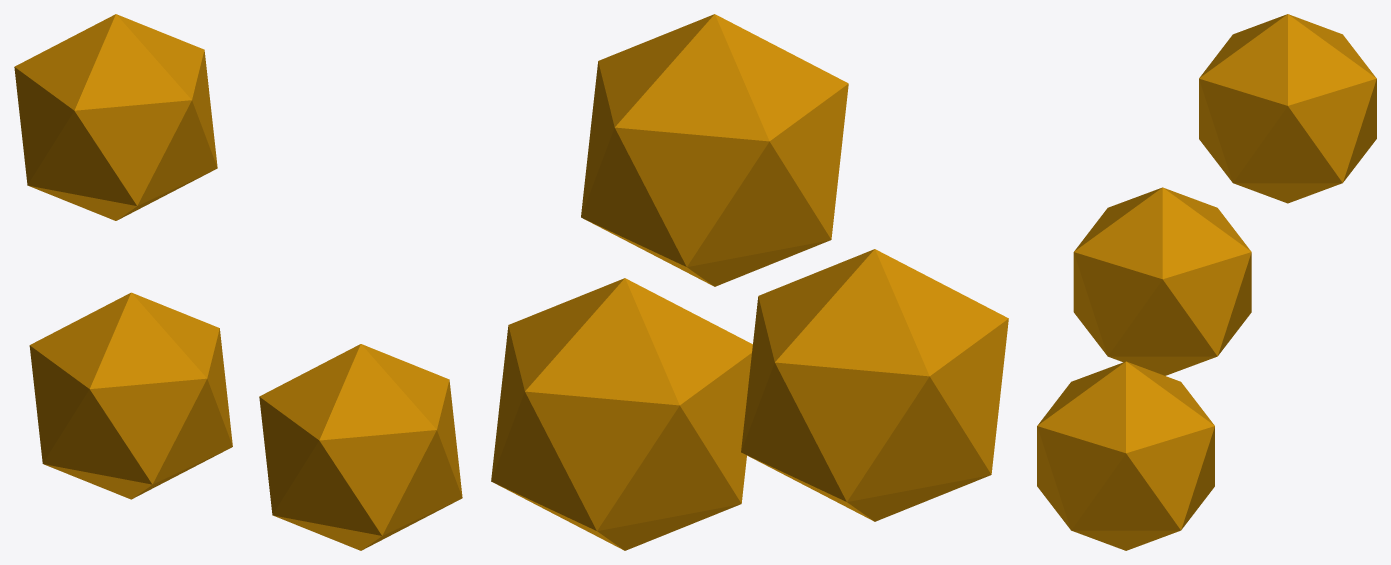
Rendered from gold.obj.
3 renders of one model, left to right at view 1: azimuth 30°, elevation 25°; view 2: azimuth 150°, elevation 25°; view 3: azimuth 270°, elevation 25°, orthographic. The views are drawn at different scales.
Visible parts, largest first — view 1: Icosphere; view 2: Icosphere; view 3: Icosphere.
Boxes of the visible parts, bbox=[...] form: Icosphere: bbox=[14, 14, 462, 550]; Icosphere: bbox=[491, 14, 1008, 550]; Icosphere: bbox=[1037, 14, 1376, 550].
Bounding box in the file's own units: 0.8824 × 1.11 × 0.7335.
